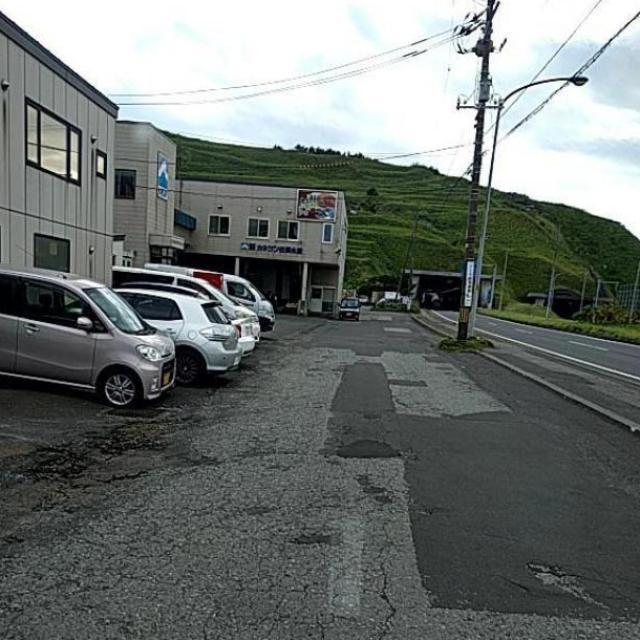Sambungan: (321, 345, 640, 625)
